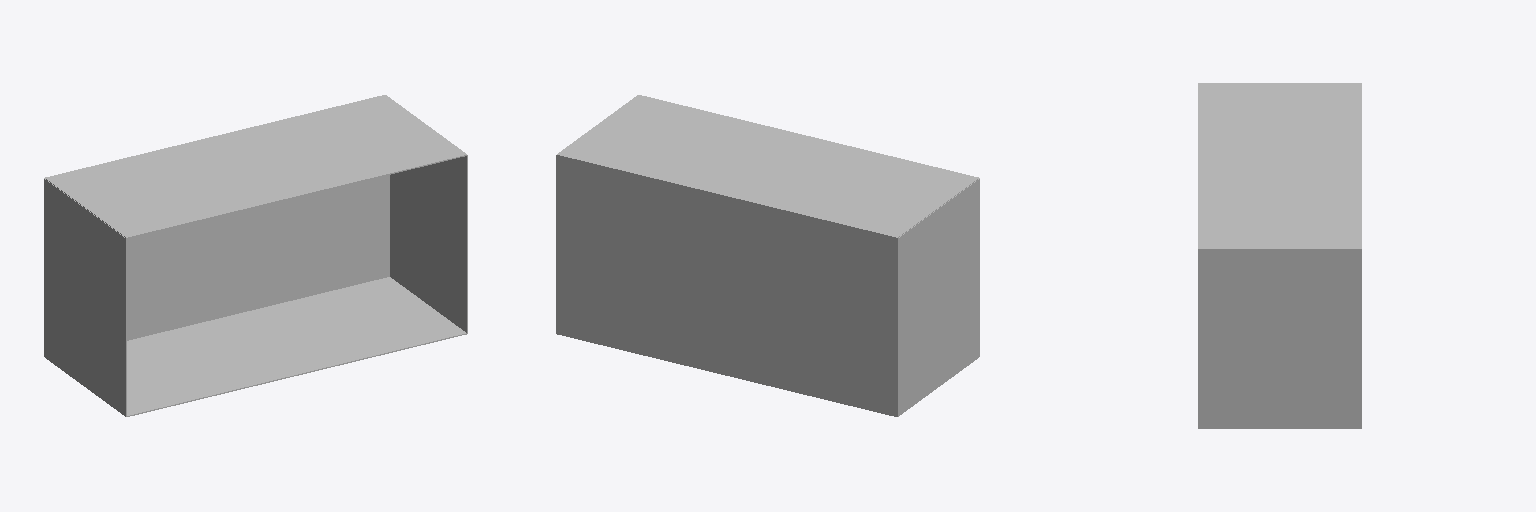
The model's file is LAAS_indoor_empty.obj.
The picture shows the model from 3 angles: view 1: azimuth 30°, elevation 25°; view 2: azimuth 150°, elevation 25°; view 3: azimuth 270°, elevation 25°; orthographic projection.
Visible parts, largest first — view 1: Wall3_Cube.004, Floor_Cube.001, Wall4_Cube.005, Wall2_Cube.003, Wall1_Cube.002; view 2: Floor_Cube.001, Wall3_Cube.004, Wall2_Cube.003; view 3: Wall1_Cube.002, Wall3_Cube.004.
Boxes of the visible parts, <box> form: Wall3_Cube.004: <box>45,95,467,238</box>; Floor_Cube.001: <box>127,175,389,340</box>; Wall4_Cube.005: <box>55,277,466,416</box>; Wall2_Cube.003: <box>44,178,126,416</box>; Wall1_Cube.002: <box>390,156,467,333</box>; Floor_Cube.001: <box>556,155,897,415</box>; Wall3_Cube.004: <box>557,95,978,238</box>; Wall2_Cube.003: <box>897,178,979,416</box>; Wall1_Cube.002: <box>1198,250,1361,428</box>; Wall3_Cube.004: <box>1198,83,1361,249</box>.
Bounding box in the file's own units: 6.02 × 3.02 × 2.5.